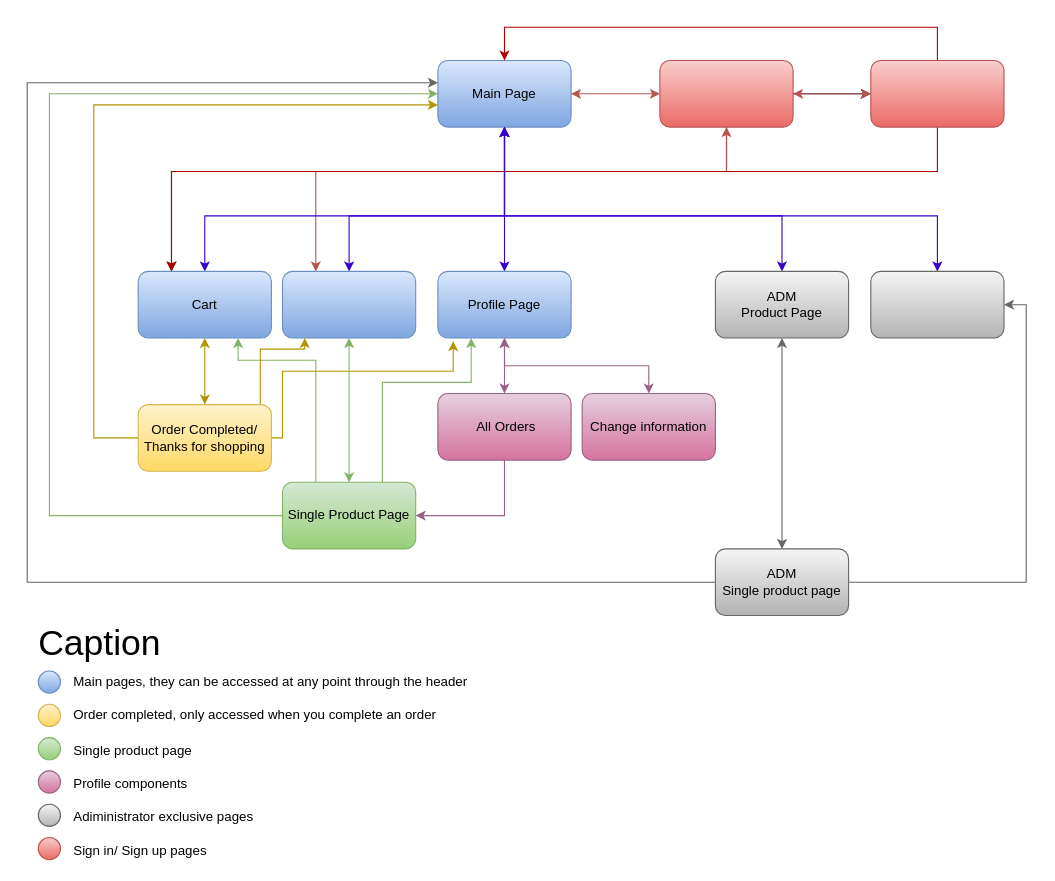
Some shapes in this 1055 by 881 pixel diagram are drawn without their labels. Each missing label, with the centre of its shape:
"ADM Profile Page/ Sales Overview" belongs at pixel 937 304.
"Product Page" belongs at pixel 348 304.
"Sign In" belongs at pixel 937 93.
"Sign Up" belongs at pixel 726 93.
